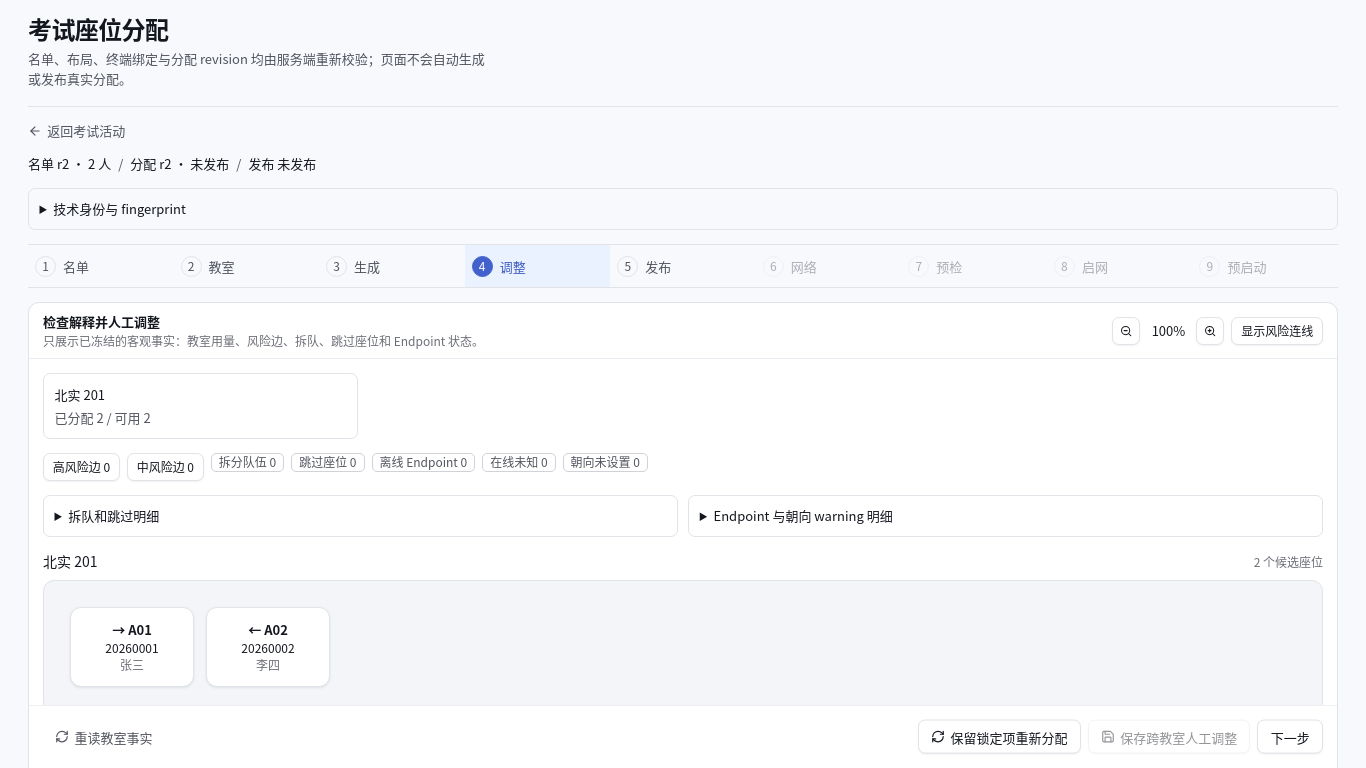
Test: p2.5 exam seat assignment workspace › keeps reread and roster writes available while a prelogin GET is in flight
Expected: the button "重读教室事实" is enabled, [43, 720, 165, 754]
Click the button with aria-label "冻结名单".
click(101, 266)  # box [28, 245, 174, 287]
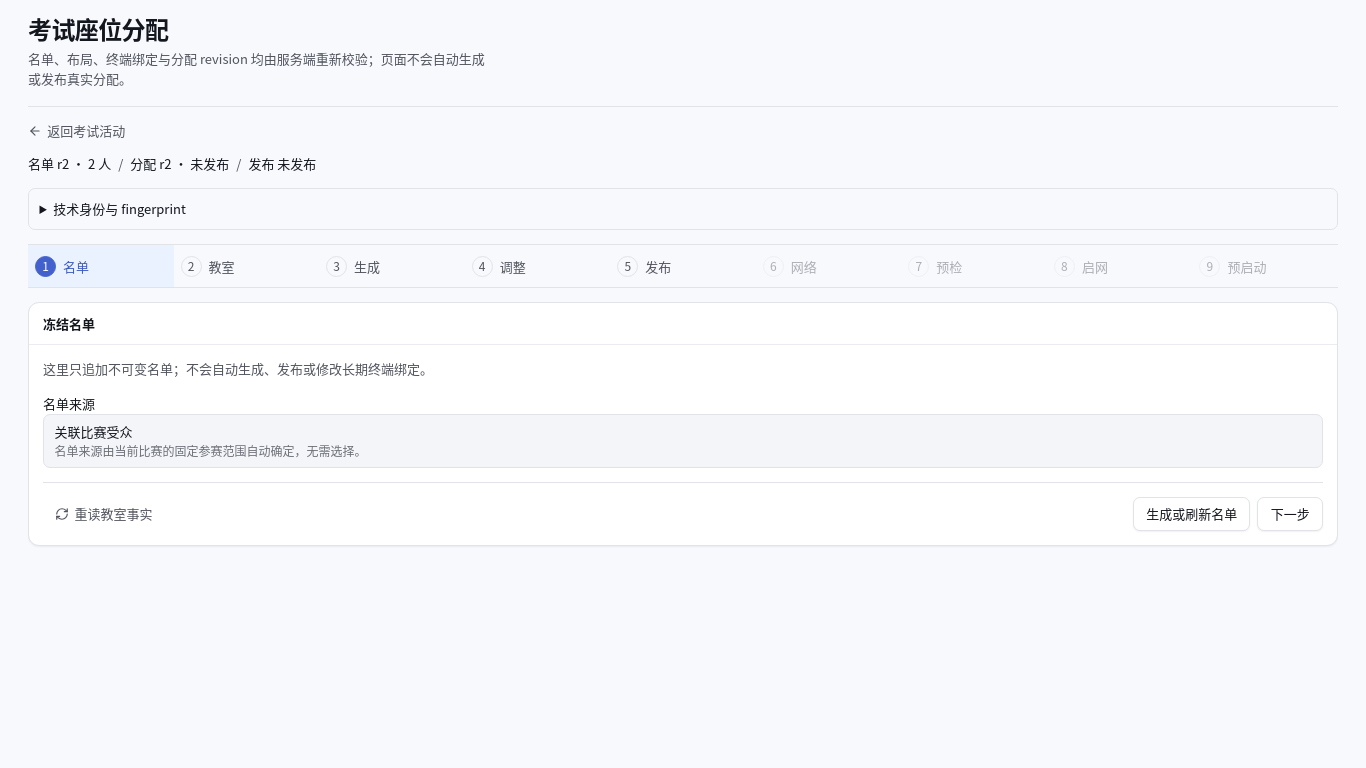
Now the button "生成或刷新名单" is enabled, box [1133, 497, 1250, 531]
